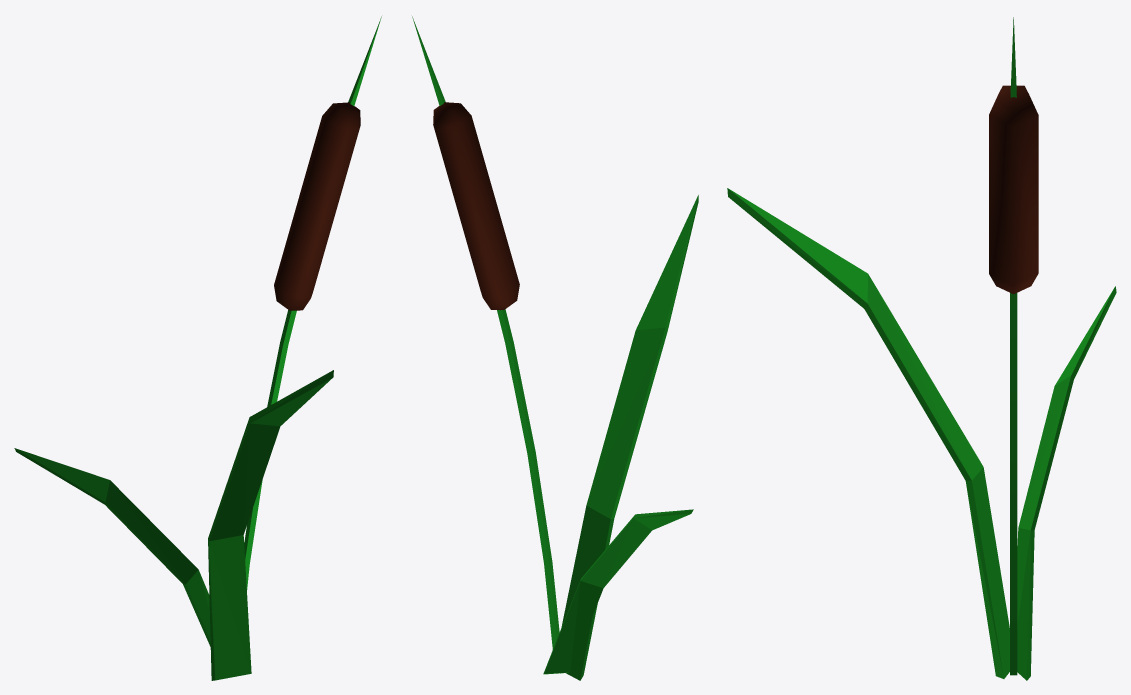
The model's file is boodle.fbx.
3 renders of one model, left to right at view 1: azimuth 30°, elevation 25°; view 2: azimuth 150°, elevation 25°; view 3: azimuth 270°, elevation 25°, orthographic. The views are drawn at different scales.
Visible parts, largest first — view 1: Line002; view 2: Line002; view 3: Line002.
Part boxes in pixels (x1,y1,x2,y2): Line002: (14, 16, 381, 680); Line002: (412, 16, 698, 680); Line002: (727, 17, 1116, 680).
Bounding box in the file's own units: 45.81 × 84.17 × 39.61.
